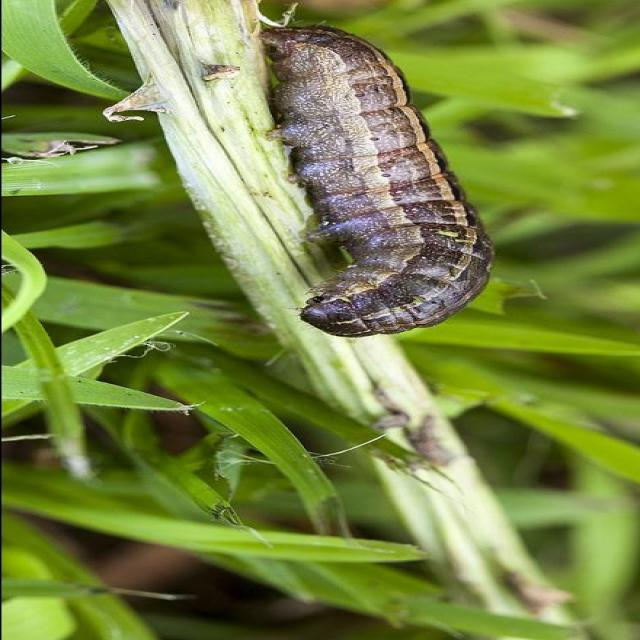army worm: (240, 24, 510, 349)
